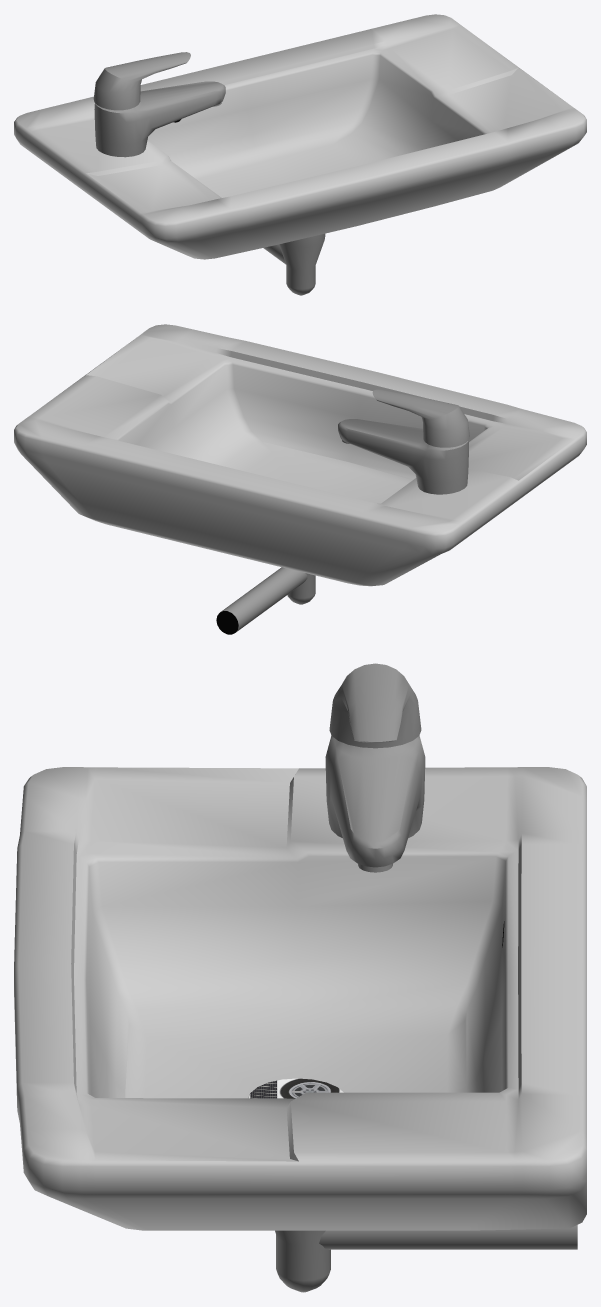
Rendered from hand-washbasin.obj.
The picture shows the model from 3 angles, top to bottom: view 1: azimuth 30°, elevation 25°; view 2: azimuth 150°, elevation 25°; view 3: azimuth 270°, elevation 25°; orthographic projection. The views are drawn at different scales.
Visible parts, largest first — view 1: WashBasin, Faucet, Pipe; view 2: WashBasin, Faucet, Pipe; view 3: WashBasin, Faucet, Pipe, Tap.
Part boxes in pixels (x1,y1,x2,y2): WashBasin: (14,14,586,259); Faucet: (93,52,225,157); Pipe: (263,233,325,295); WashBasin: (14,324,586,586); Faucet: (338,389,469,494); Pipe: (216,567,315,634); WashBasin: (14,767,586,1230); Faucet: (325,663,425,872); Pipe: (275,1225,577,1292); Tap: (248,1078,343,1098).
Bounding box in the file's own units: 49.13 × 27.02 × 29.96.
